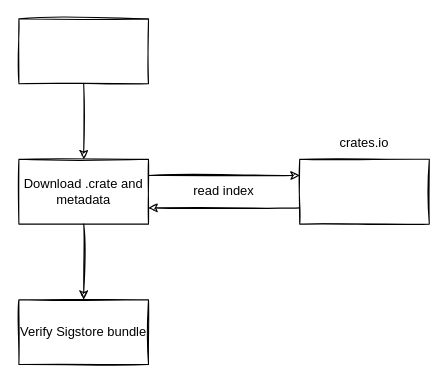
Image size: 448x383. Some labels were removed from this diagram. Here are the shapes that lost their labels. From the top down, the centre of each, then its label:
point 83,51: cargo build/install/check
point 364,191: index
